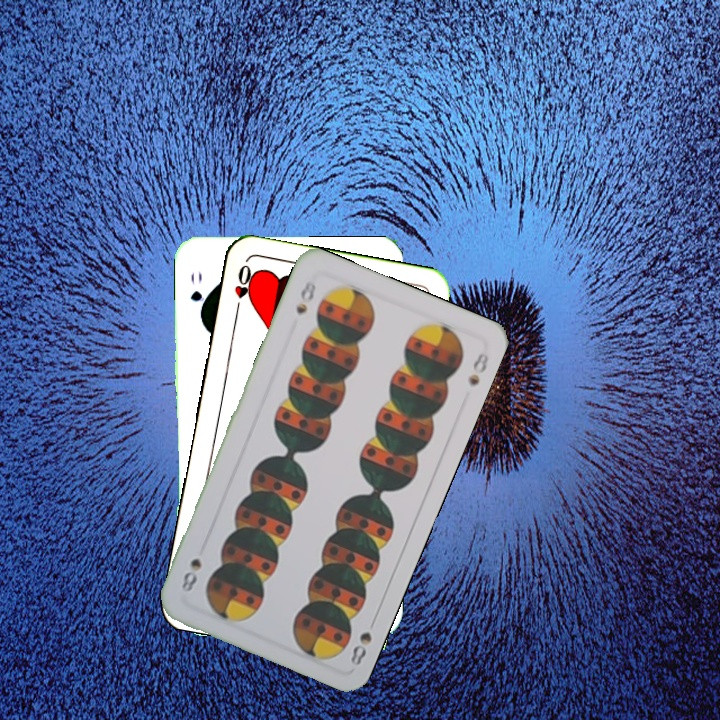GO: (186, 269, 208, 321)
HO: (230, 260, 257, 318)
S8: (346, 612, 380, 668), (292, 276, 319, 317)
